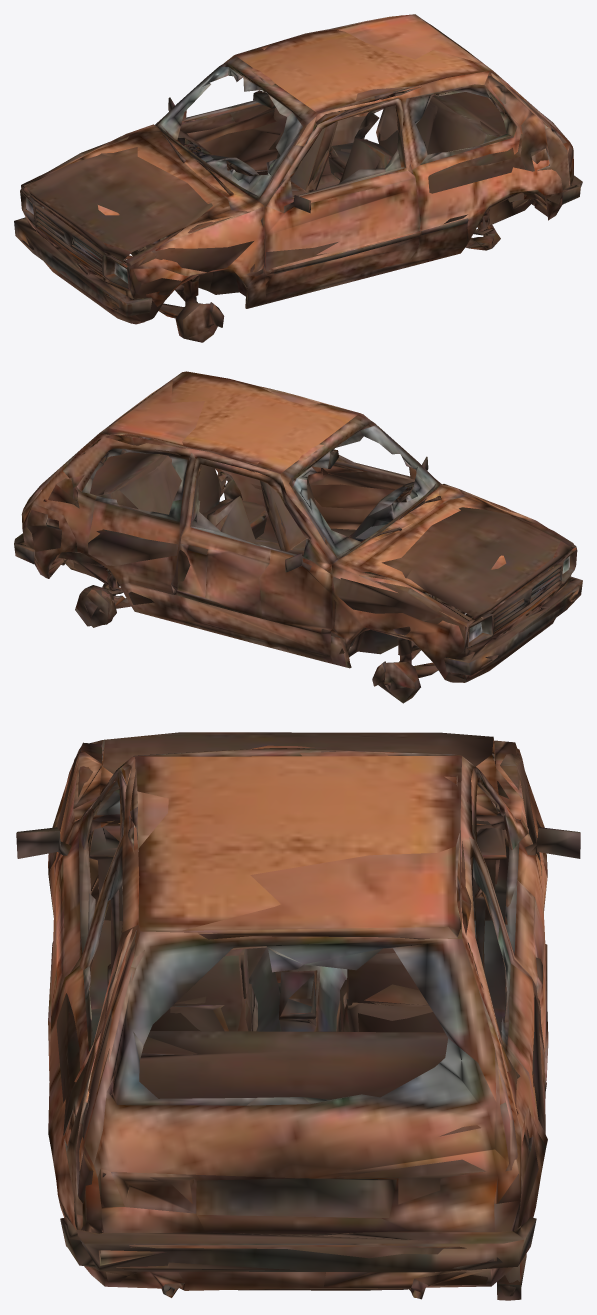
The model's file is carwreck.glb.
3 views of the same model, one above another, from view 1: azimuth 30°, elevation 25°; view 2: azimuth 150°, elevation 25°; view 3: azimuth 270°, elevation 25° (orthographic). The views are drawn at different scales.
Size of the model in its own units: 1.9 by 0.7422 by 0.9906.
Materials: 1 (1 with a texture image).
